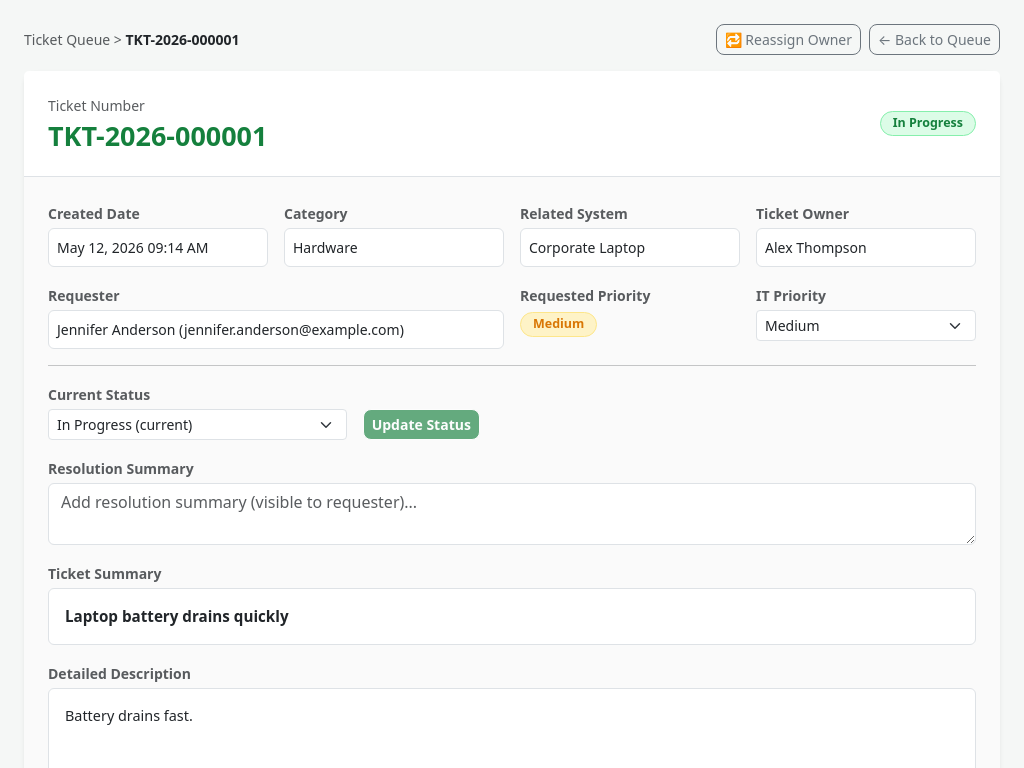
Test case: Lab 4 Ticket workflow UI › UI-07: a stale update shows the conflict message with a Reload button that refetches
Select "Waiting for Requester" in the dropdown labelled "Current Status". click: (197, 425)
box: [48,409,347,440]
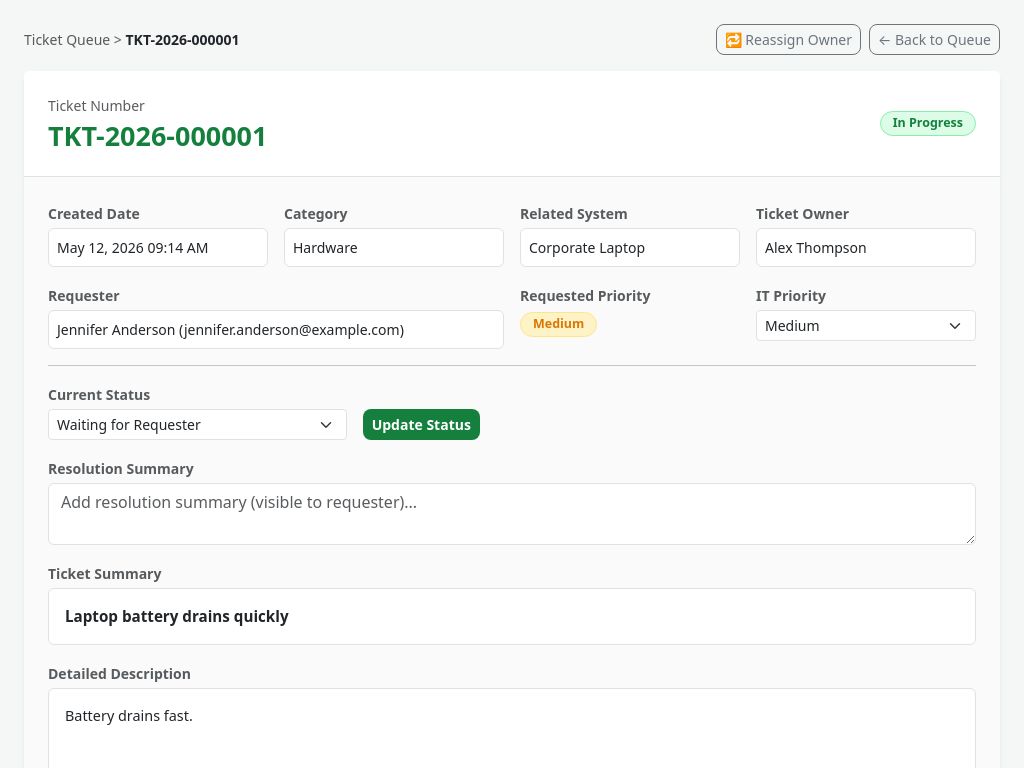
Click the button "Update Status". click: (421, 425)
box: [363,409,480,440]
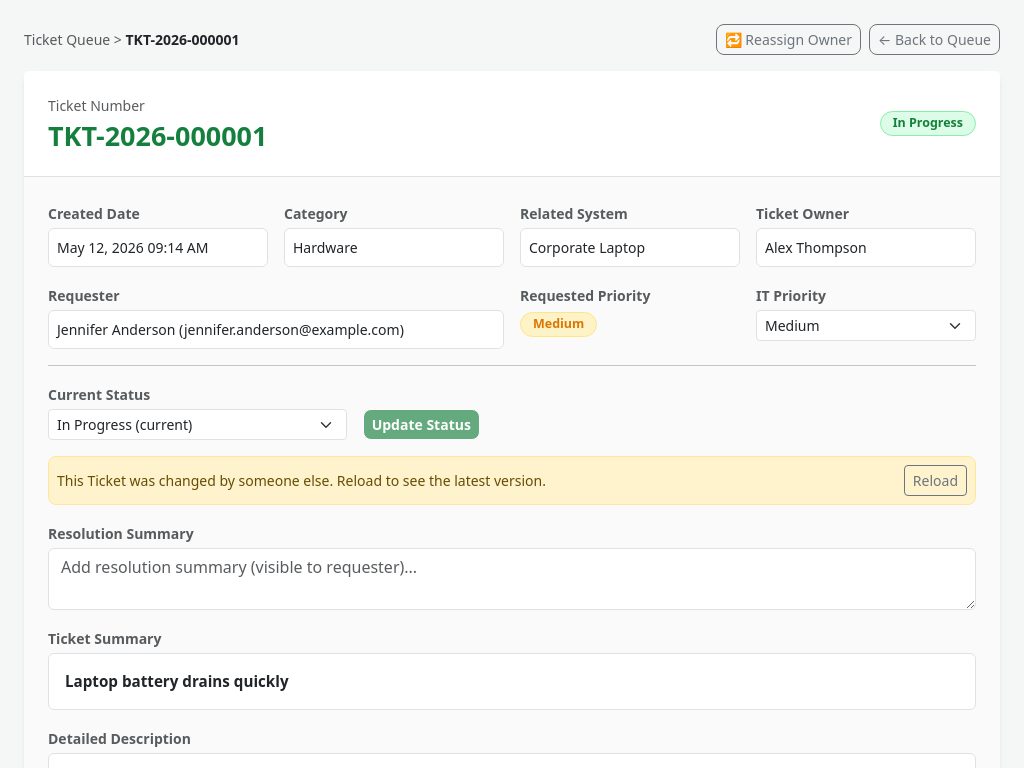
Expected: the text "changed by someone else" is shown, [57,471,546,490]
Click the button "Reload". click: (935, 481)
box: [904,465,967,496]
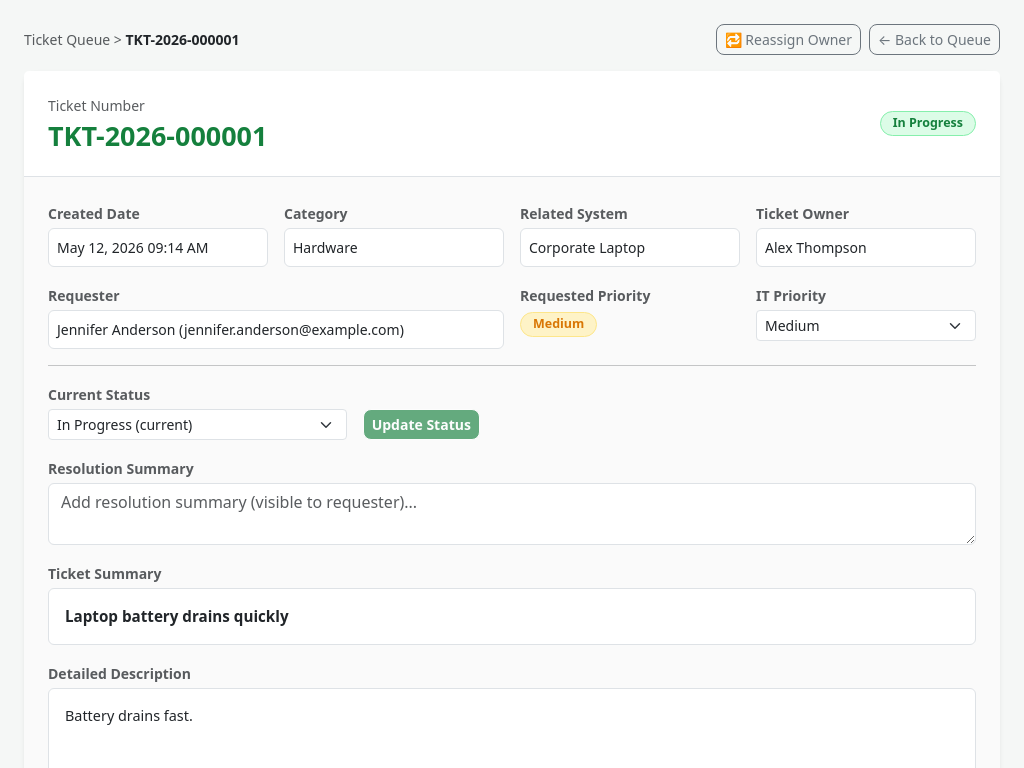
Expected: the text "changed by someone else" is gone
